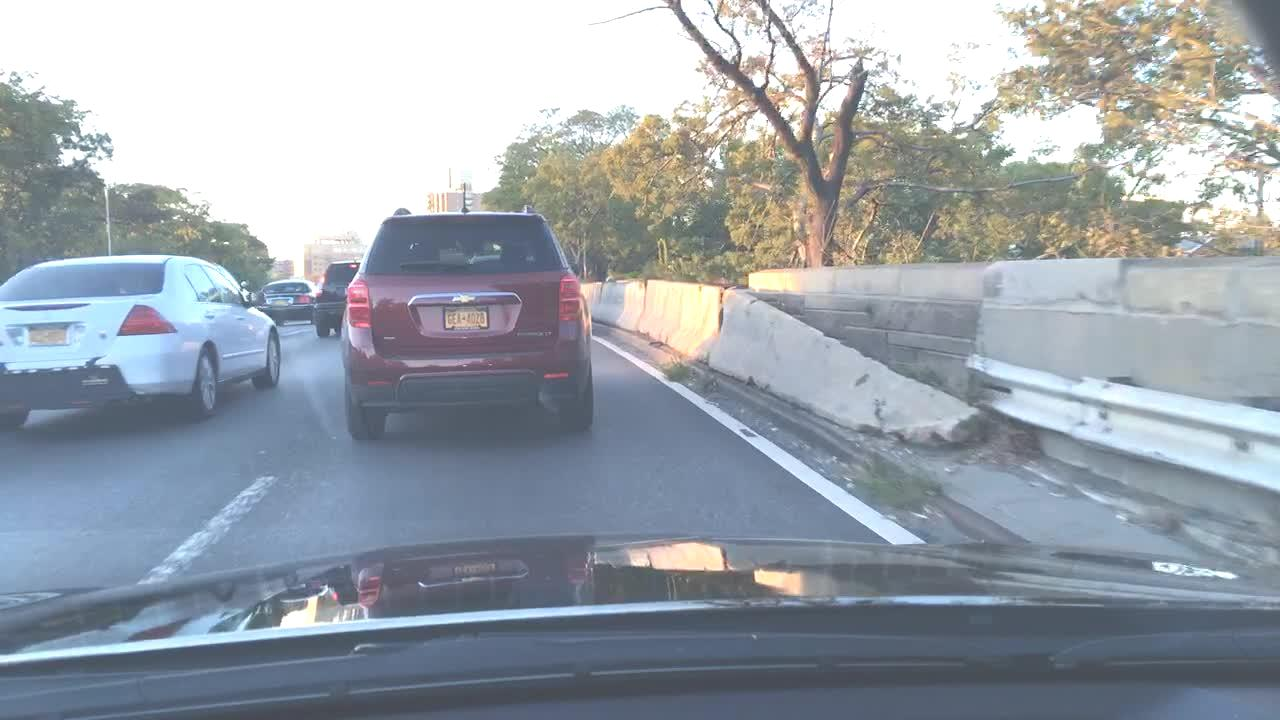chevrolet: (446, 288, 487, 311)
